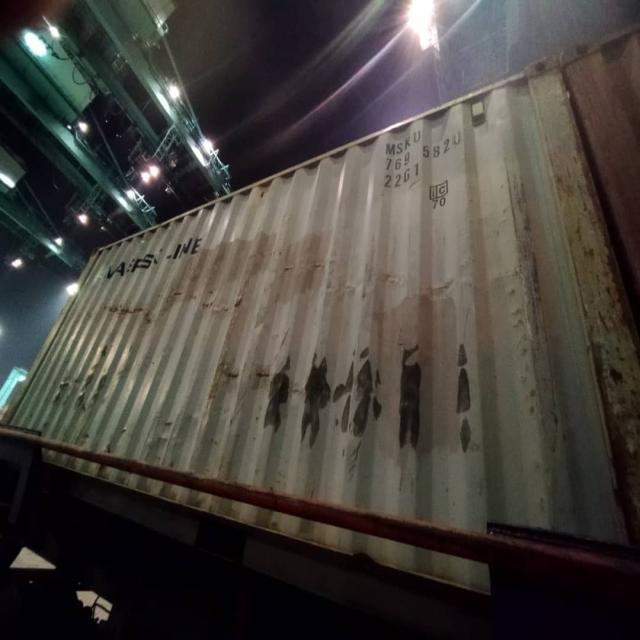dent: (142, 379, 253, 458), (80, 285, 253, 335), (102, 429, 129, 456)
